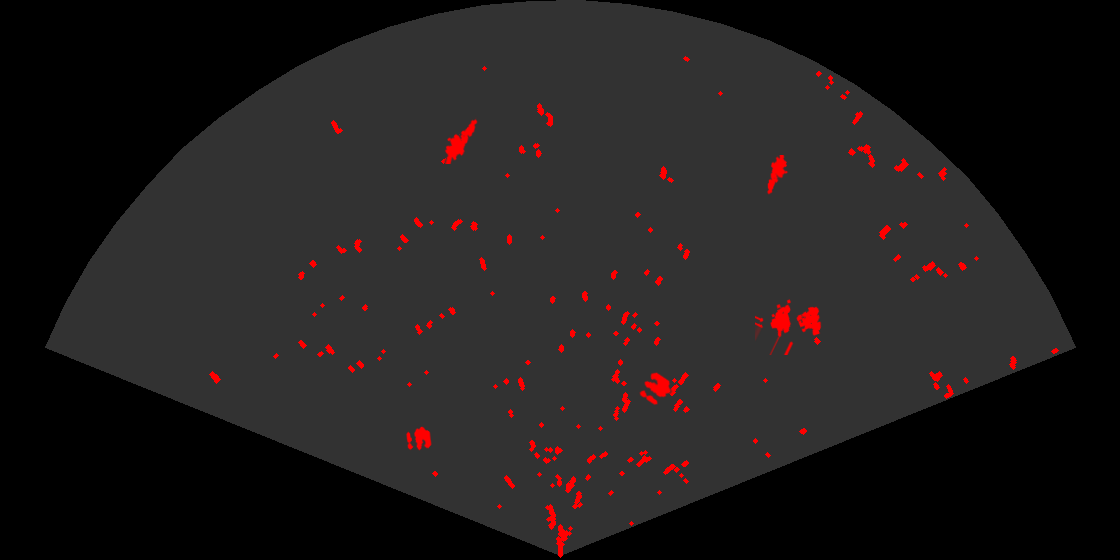ball: (638, 371, 673, 407), (405, 425, 433, 452)
cage: (755, 298, 823, 355)
frogman: (443, 116, 479, 164), (766, 155, 790, 195)
